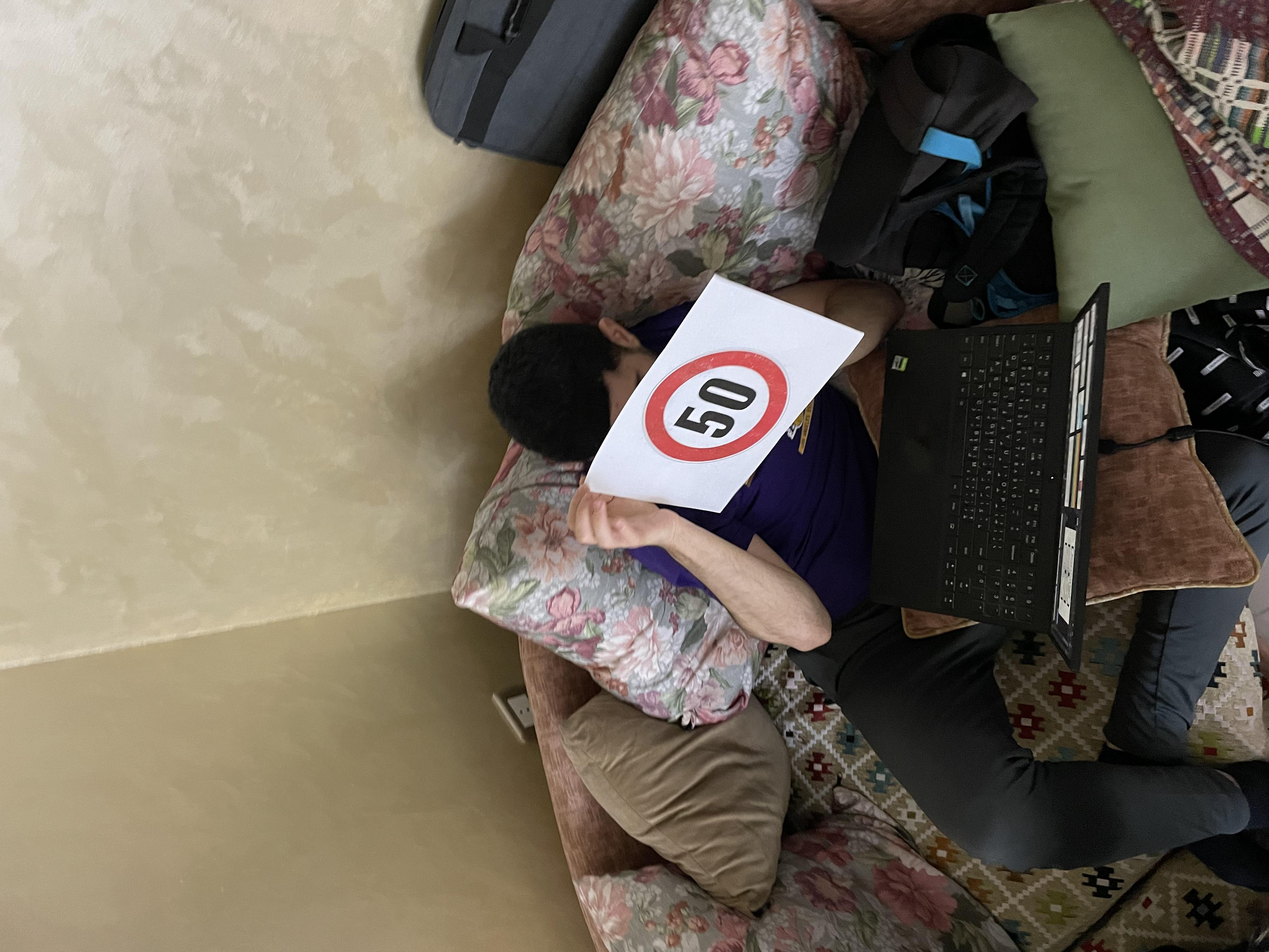50-Speed: (655, 468, 804, 600)
